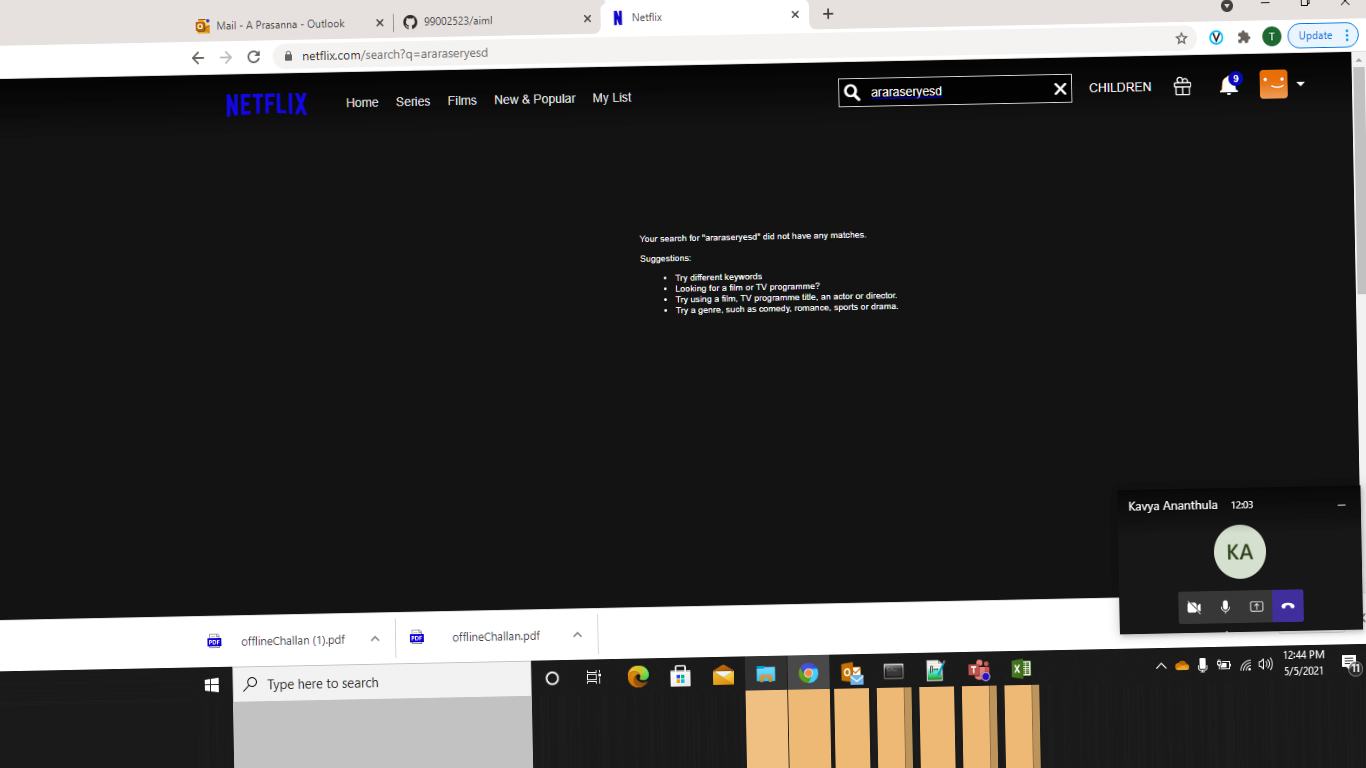mywatchlistbutton: (579, 81, 640, 108)
noresultsfound: (609, 208, 927, 320)
profileicon: (1255, 60, 1309, 101)
searchicon: (837, 81, 867, 111)
searchtextbox: (833, 68, 1075, 112)
